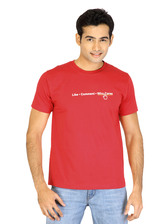clothoes: (28, 58, 144, 192)
